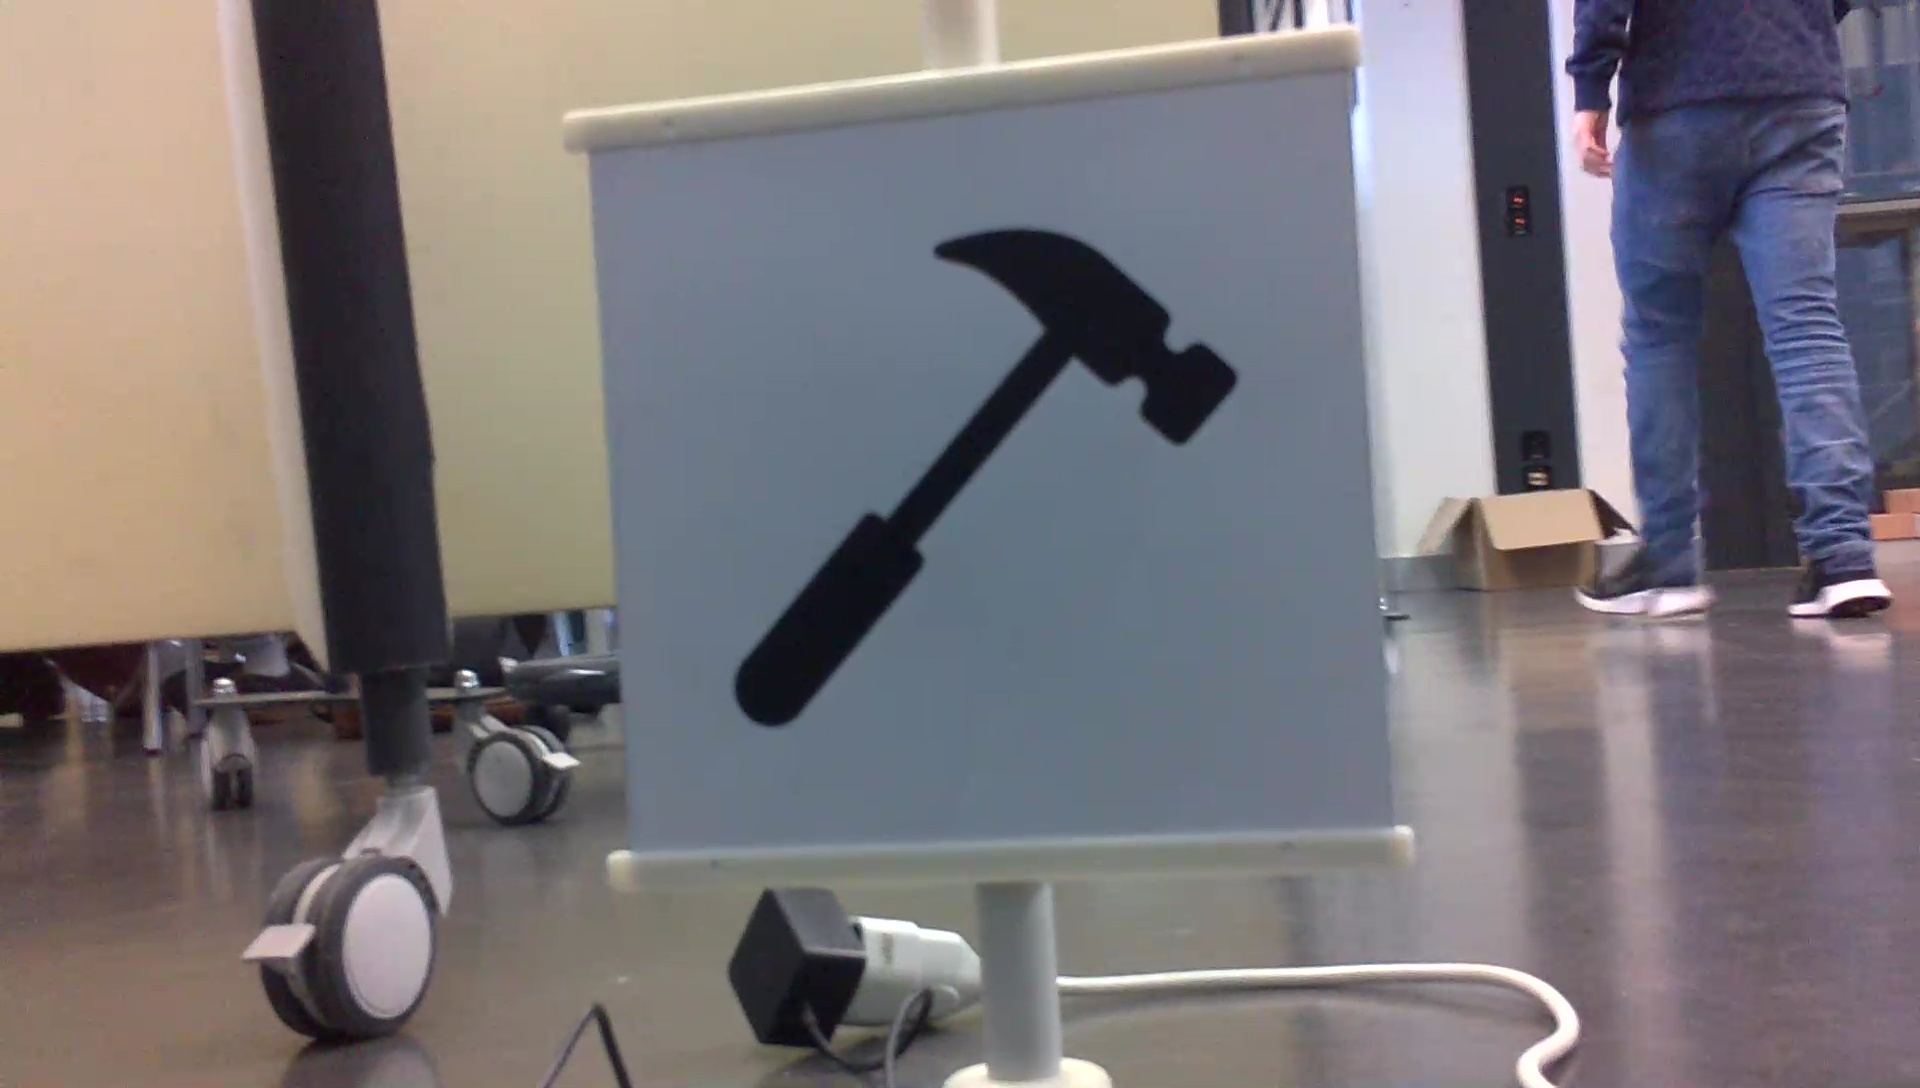hammer: (723, 218, 1250, 736)
